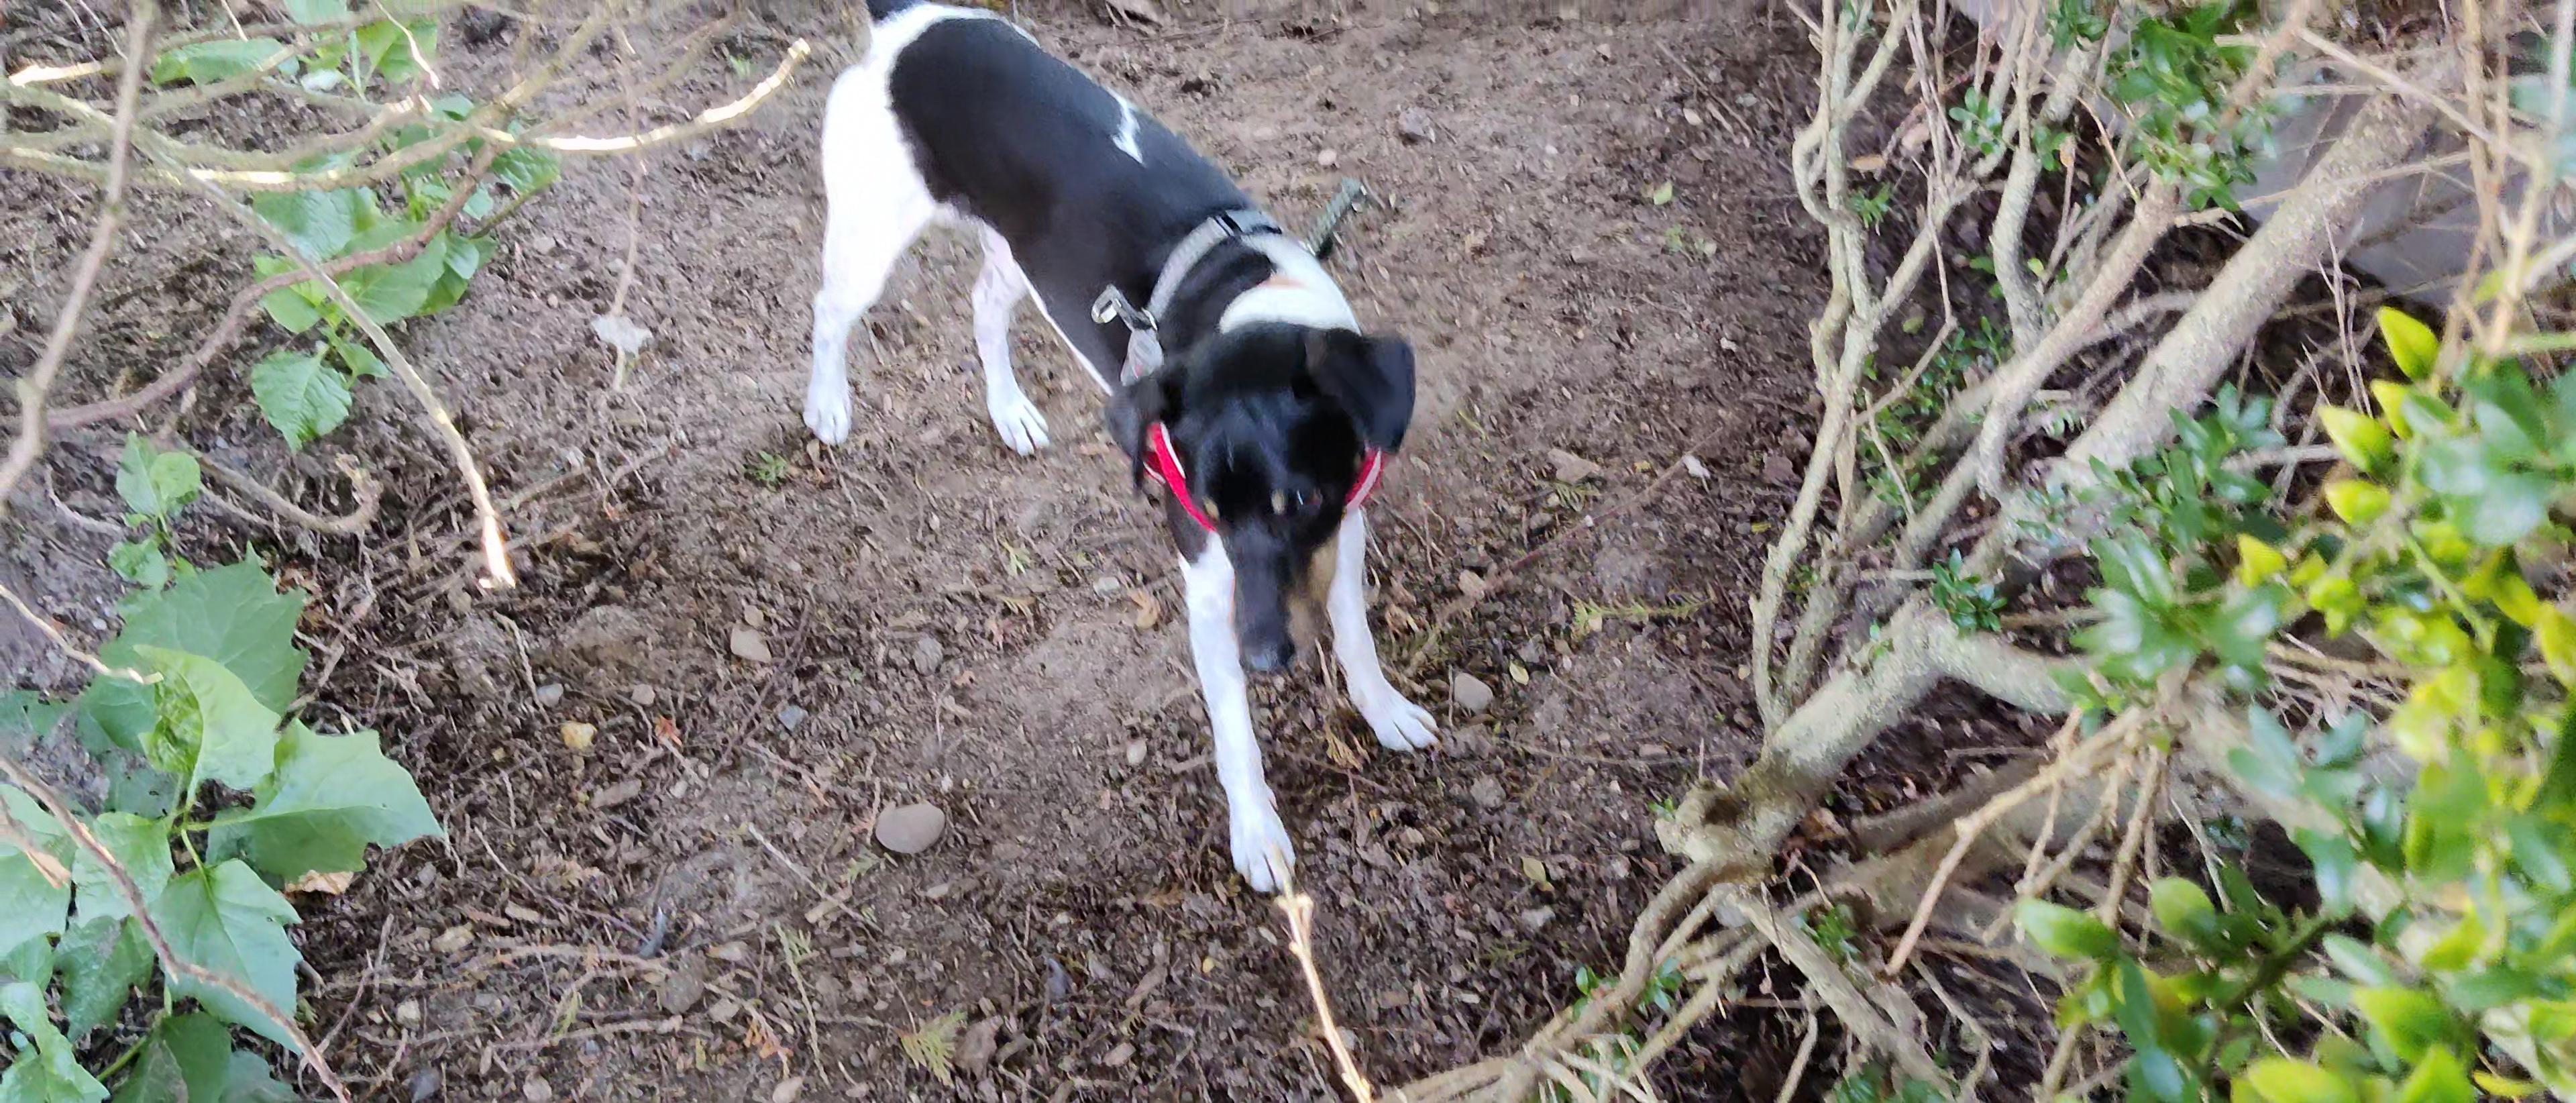Dog: (779, 0, 1467, 912)
